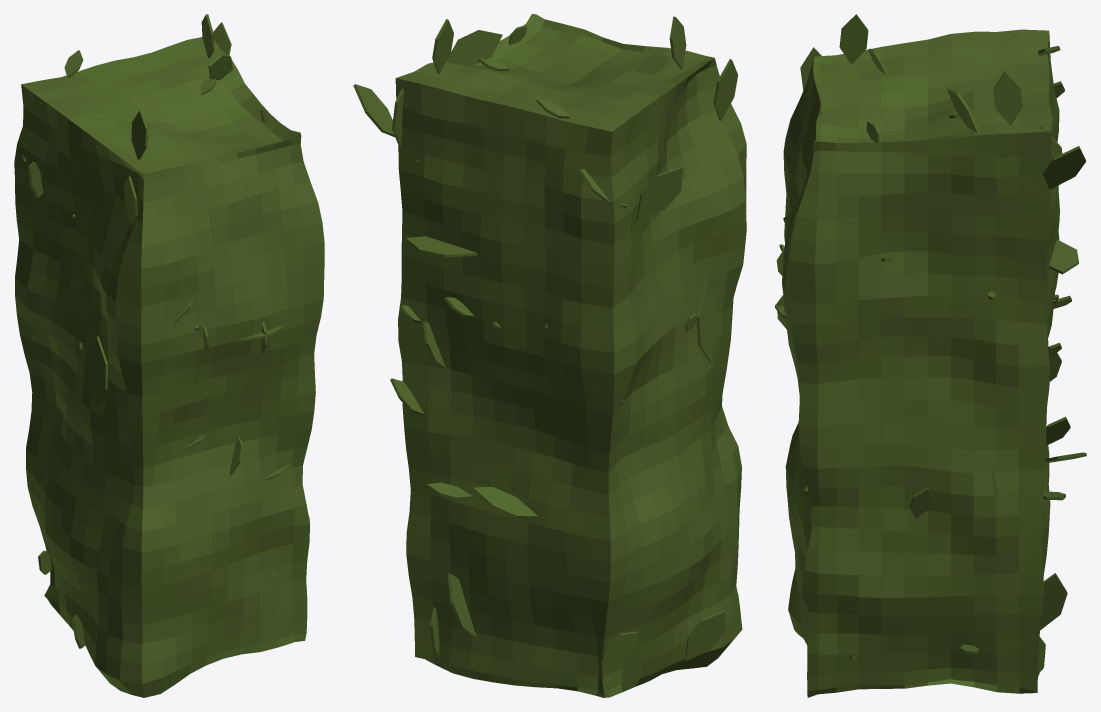
The model's file is SquareWall.fbx.
3 views of the same model, side by side, from view 1: azimuth 30°, elevation 25°; view 2: azimuth 150°, elevation 25°; view 3: azimuth 270°, elevation 25° (orthographic). The views are drawn at different scales.
Parts seen in each view (by area): view 1: Sphere.001; view 2: Sphere.001; view 3: Sphere.001.
Part boxes in pixels (box(x1,y1,x2,y2)): Sphere.001: box(14, 14, 324, 697); Sphere.001: box(353, 14, 746, 697); Sphere.001: box(775, 14, 1086, 697).
Size of the model in its own units: 264 by 604 by 266.
